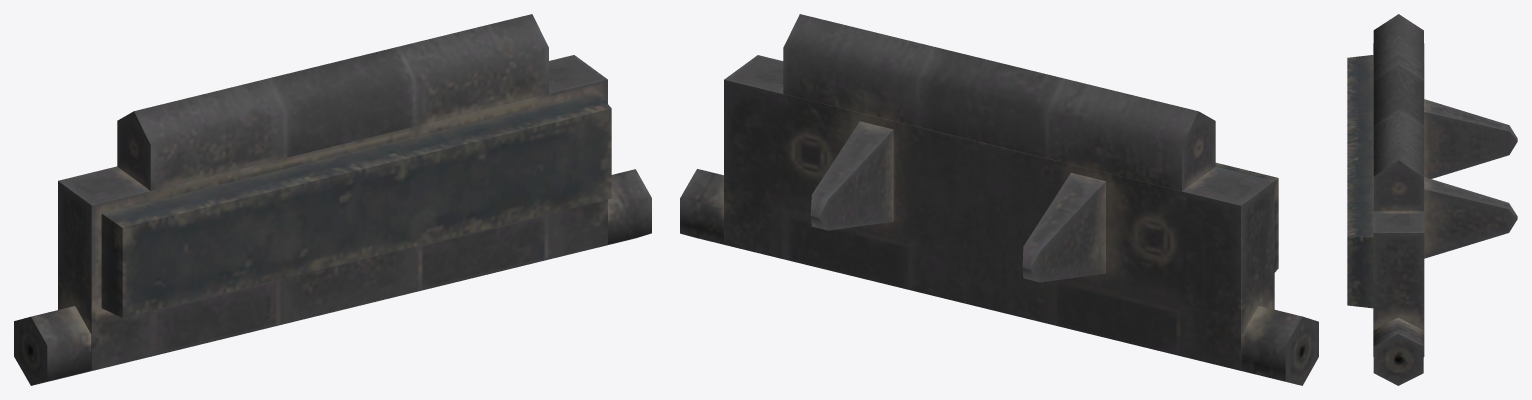
3 renders of one model, left to right at view 1: azimuth 30°, elevation 25°; view 2: azimuth 150°, elevation 25°; view 3: azimuth 270°, elevation 25°, orthographic. The views are drawn at different scales.
Visible parts, largest first — view 1: set_0_group_0; view 2: set_0_group_0; view 3: set_0_group_0.
Part boxes in pixels (box(x1,y1,x2,y2)): set_0_group_0: box(14, 14, 651, 385); set_0_group_0: box(680, 14, 1318, 385); set_0_group_0: box(1347, 14, 1517, 385).
Size of the model in its own units: 0.283 by 0.1115 by 0.0918.
Materials: 1 (1 with a texture image).
